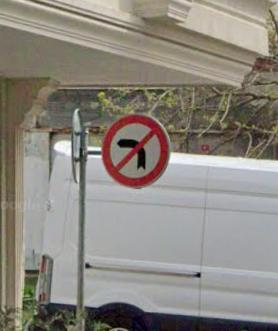leftturnsareforbidden: (102, 114, 168, 189)
stop: (169, 185, 169, 188)
